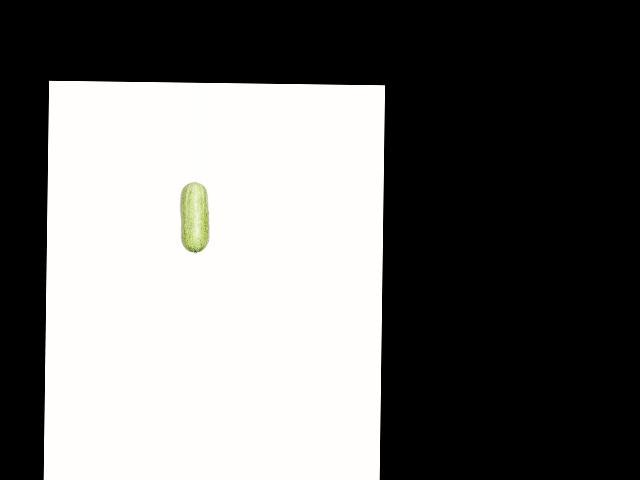cucumber: (179, 182, 209, 253)
